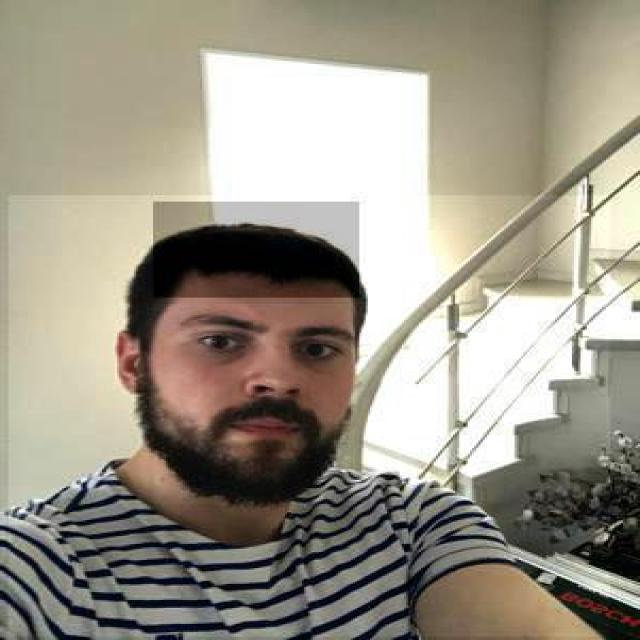face_nomask: (155, 304, 357, 504)
head_nohelmet: (153, 202, 359, 298)
person: (7, 196, 610, 638)
